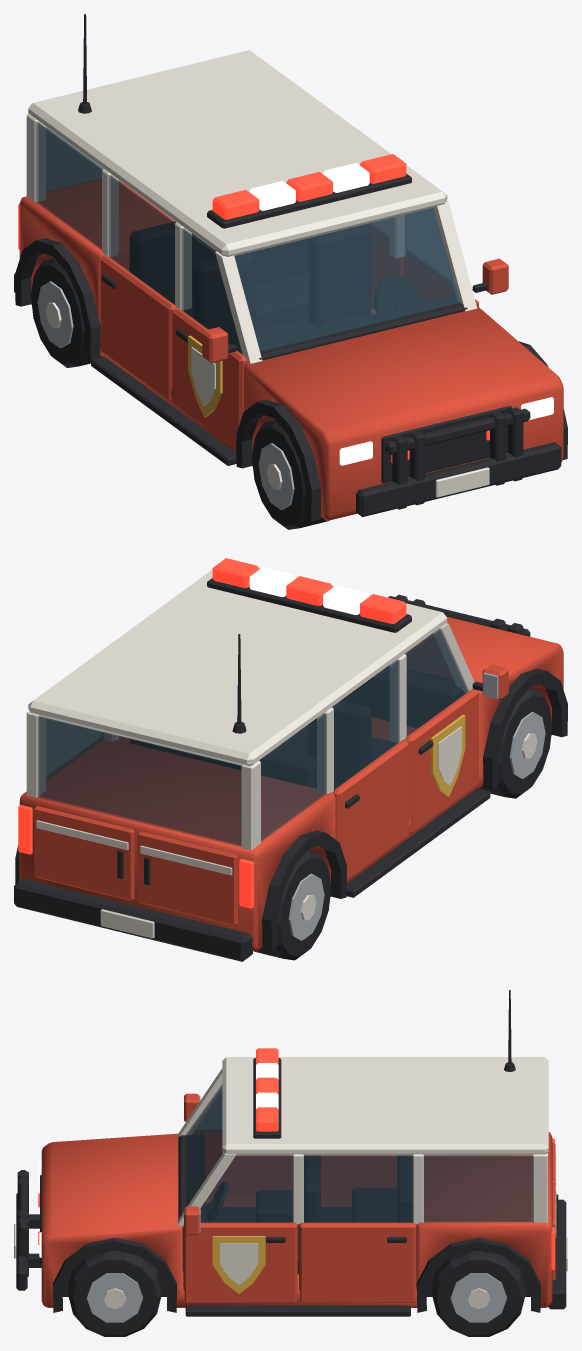
File: fire-chief-suv.glb
3 views of the same model, one above another, from view 1: azimuth 30°, elevation 25°; view 2: azimuth 150°, elevation 25°; view 3: azimuth 270°, elevation 25° (orthographic). The views are drawn at different scales.
Visible parts, largest first — view 1: Roof, Body, Windshield, Door_RR, Door_RR_Glass, DriverSeat_Back, Glass_Cargo_R, RearBench_Back, PushBumper_Low, Door_FR, Dashboard, Door_FR_Glass (+38 smaller); view 2: Roof, Body, Glass_Rear, Door_RR, CompartmentDoor_L, CompartmentDoor_R, RearBumper, Door_RR_Glass, Glass_Cargo_R, Door_FR, Door_FR_Glass, Dashboard (+32 smaller); view 3: Body, Roof, Door_RL, Glass_Cargo_L, Door_RL_Glass, Door_FL, Door_FL_Glass, Wheel_RL, Wheel_FL, Door_FR, Windshield, Door_RR (+25 smaller).
Part boxes in pixels (left/top/right/bottom): Roof: left=28, top=50, right=447, bottom=256; Body: left=19, top=179, right=563, bottom=520; Windshield: left=234, top=208, right=460, bottom=351; Door_RR: left=100, top=255, right=176, bottom=400; Door_RR_Glass: left=109, top=175, right=175, bottom=304; DriverSeat_Back: left=309, top=225, right=370, bottom=326; Glass_Cargo_R: left=36, top=122, right=102, bottom=249; RearBench_Back: left=130, top=221, right=308, bottom=304; PushBumper_Low: left=356, top=442, right=561, bottom=516; Door_FR: left=172, top=308, right=247, bottom=449; Dashboard: left=258, top=295, right=467, bottom=360; Door_FR_Glass: left=182, top=229, right=242, bottom=354; Roof: left=28, top=567, right=447, bottom=765; Body: left=19, top=616, right=563, bottom=951; Glass_Rear: left=37, top=716, right=241, bottom=846; Door_RR: left=332, top=740, right=408, bottom=879; CompartmentDoor_L: left=34, top=806, right=134, bottom=900; CompartmentDoor_R: left=137, top=831, right=237, bottom=925; RearBumper: left=14, top=878, right=252, bottom=961; Door_RR_Glass: left=333, top=661, right=399, bottom=789; Glass_Cargo_R: left=260, top=714, right=326, bottom=841; Door_FR: left=405, top=688, right=478, bottom=832; Door_FR_Glass: left=406, top=630, right=468, bottom=736; Dashboard: left=341, top=666, right=465, bottom=728; Body: left=41, top=1132, right=552, bottom=1307; Roof: left=222, top=1057, right=548, bottom=1155; Door_RL: left=299, top=1222, right=416, bottom=1302; Glass_Cargo_L: left=423, top=1156, right=532, bottom=1222; Door_RL_Glass: left=303, top=1156, right=412, bottom=1222; Door_FL: left=183, top=1222, right=297, bottom=1302; Door_FL_Glass: left=200, top=1156, right=292, bottom=1222; Wheel_RL: left=432, top=1250, right=525, bottom=1336; Wheel_FL: left=68, top=1250, right=161, bottom=1336; Door_FR: left=203, top=1134, right=292, bottom=1195; Windshield: left=185, top=1084, right=222, bottom=1206; Door_RR: left=321, top=1155, right=396, bottom=1195.
Bounding box in the file's own units: 10.1 × 10.46 × 19.64.
